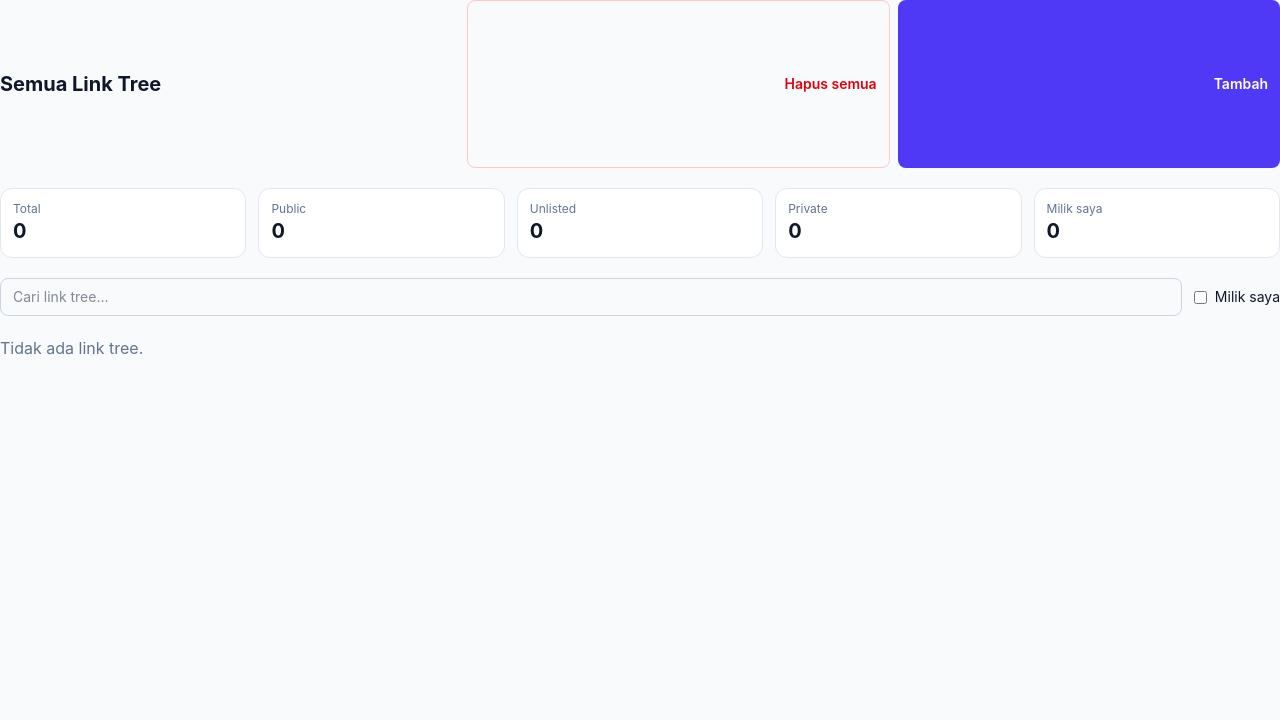
Test case: HomePage › membuka dan menutup modal tambah
The image size is (1280, 720).
Click the button "Tambah": (1089, 84) 898,0 -> 1279,168
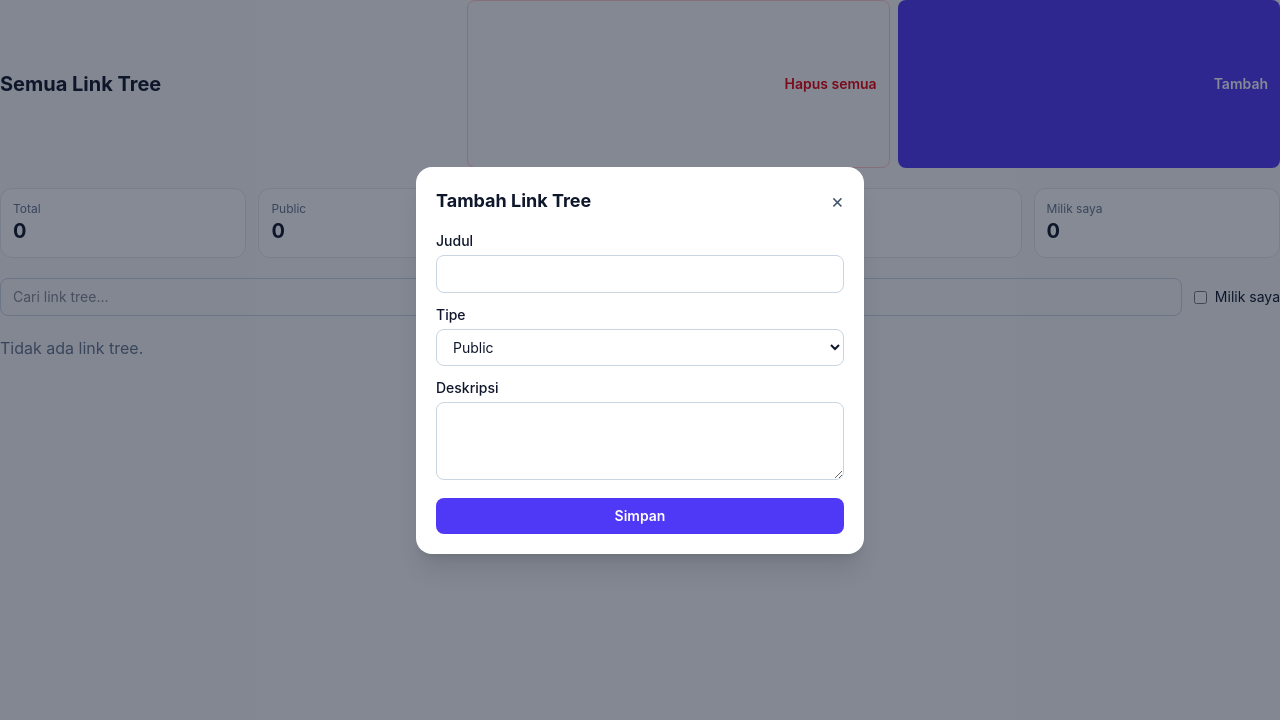
Expected: the dialog "Tambah Link Tree" is shown
Click the button named "Tutup": (837, 200) 831,190 -> 844,210
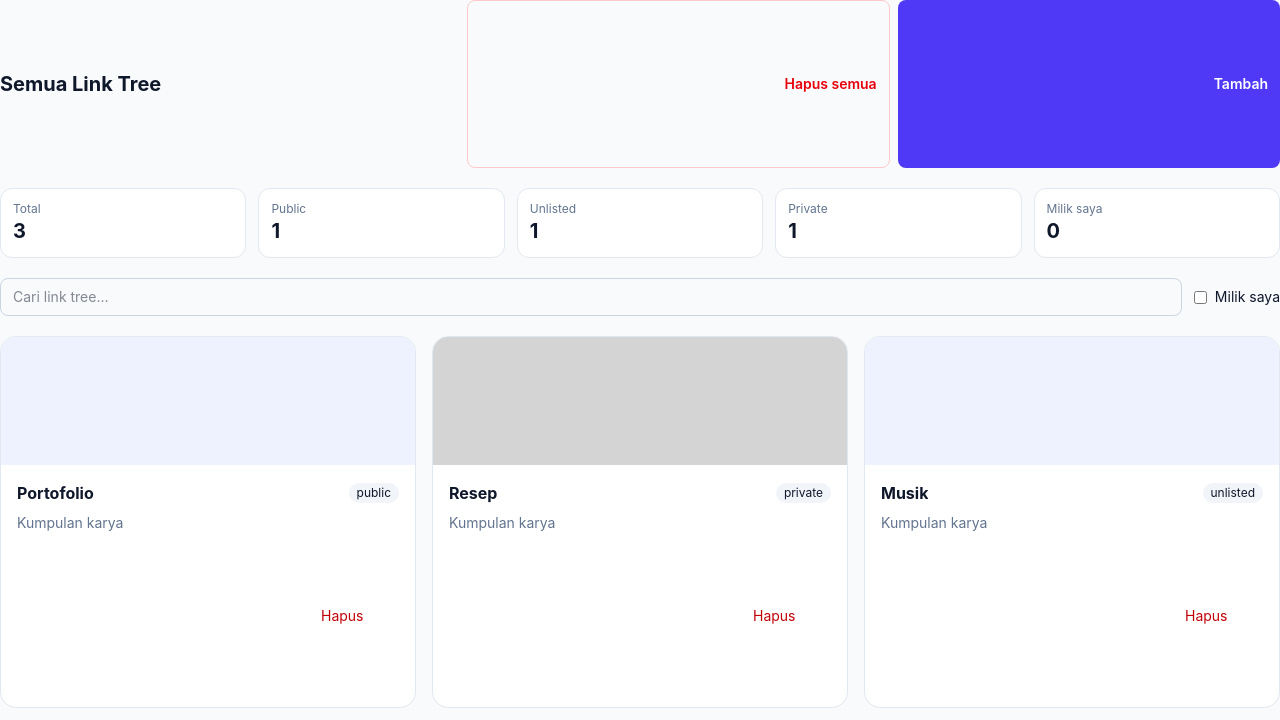
Expected: the dialog is gone
